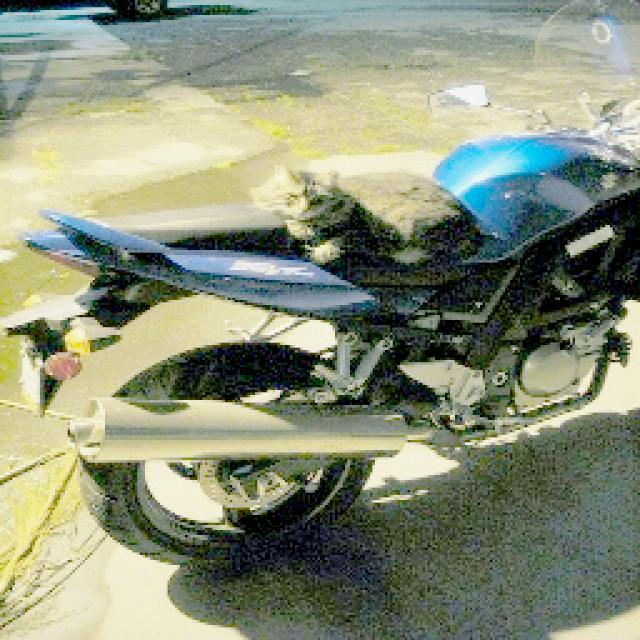cat: (257, 164, 485, 288)
